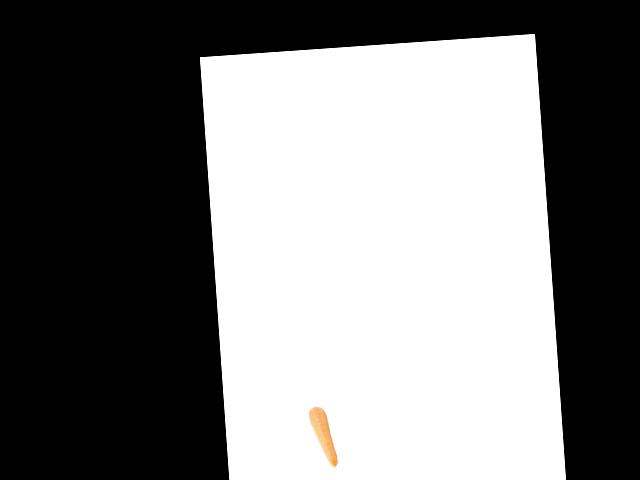carrot: (305, 390, 343, 472)
